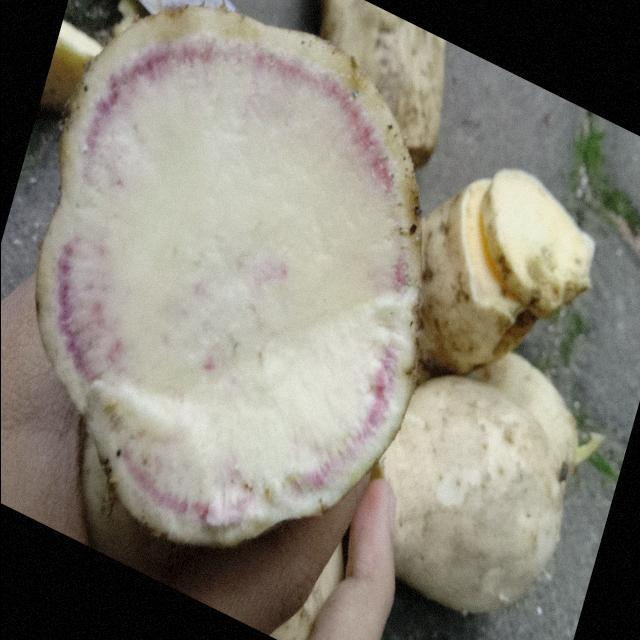Healthy Sweet Potato: (36, 8, 419, 543)
